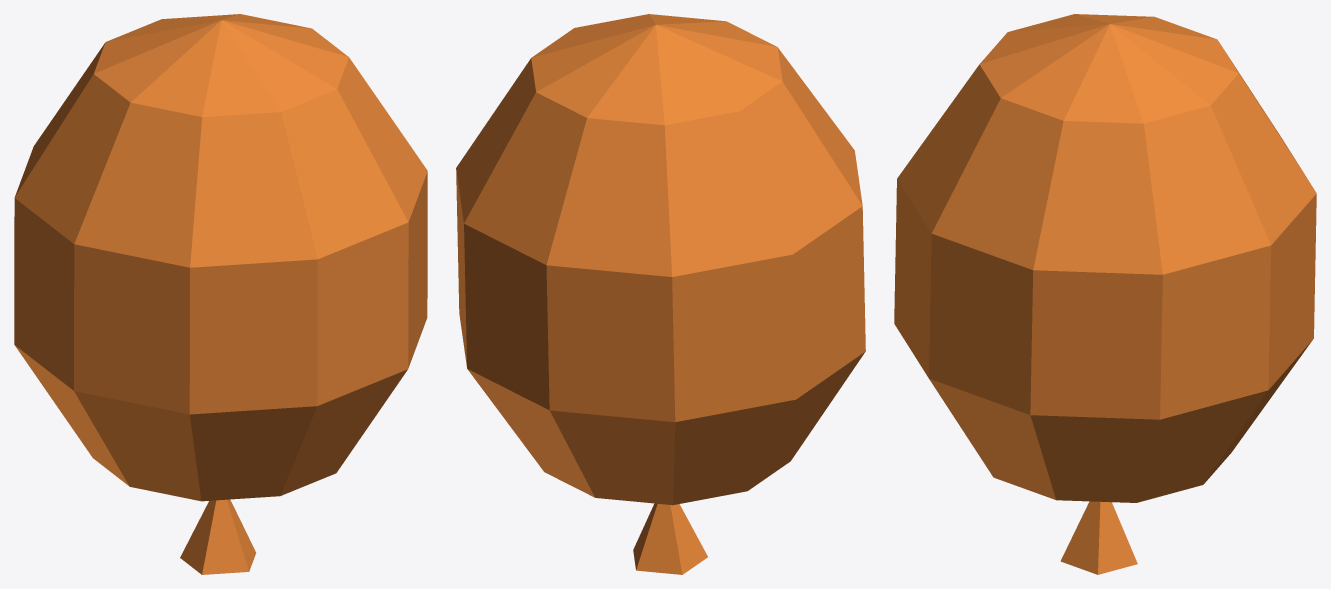
File: balloon_orange.fbx
The picture shows the model from 3 angles, left to right: view 1: azimuth 30°, elevation 25°; view 2: azimuth 150°, elevation 25°; view 3: azimuth 270°, elevation 25°; orthographic projection.
Parts seen in each view (by area): view 1: balloon_orange; view 2: balloon_orange; view 3: balloon_orange.
Boxes of the visible parts, x1,y1,x2,y2 form: balloon_orange: [14, 14, 427, 574]; balloon_orange: [456, 14, 865, 574]; balloon_orange: [894, 14, 1316, 574].
Bounding box in the file's own units: 359 × 523 × 373.
Materials: 1 (1 with a texture image).
